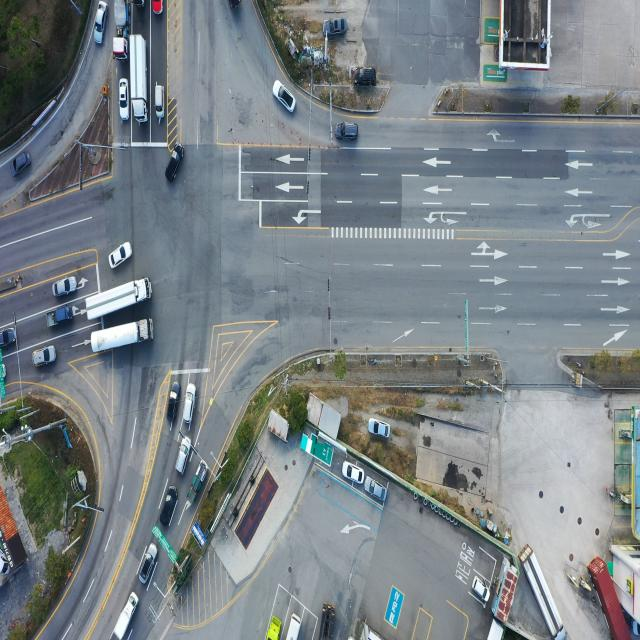car: (138, 543, 158, 586), (161, 486, 179, 530), (272, 82, 295, 115), (166, 146, 185, 184), (175, 437, 192, 477), (164, 383, 181, 421), (109, 242, 132, 270), (366, 478, 388, 505), (182, 382, 196, 424), (95, 0, 108, 44), (54, 276, 78, 299), (343, 461, 365, 485), (32, 346, 57, 367), (12, 152, 32, 178), (367, 418, 390, 439), (473, 576, 491, 602), (354, 66, 376, 85), (336, 124, 359, 142), (324, 19, 347, 37), (118, 80, 128, 120), (157, 85, 167, 121), (0, 327, 17, 347), (151, 0, 162, 14)
medium_truck: (523, 544, 567, 638), (86, 274, 154, 322), (90, 320, 152, 356), (132, 34, 150, 122), (112, 0, 128, 60), (321, 604, 337, 640)
small_bus: (282, 614, 302, 640)
small_truck: (113, 587, 141, 640), (189, 457, 210, 502), (46, 305, 74, 329), (266, 617, 283, 640)
